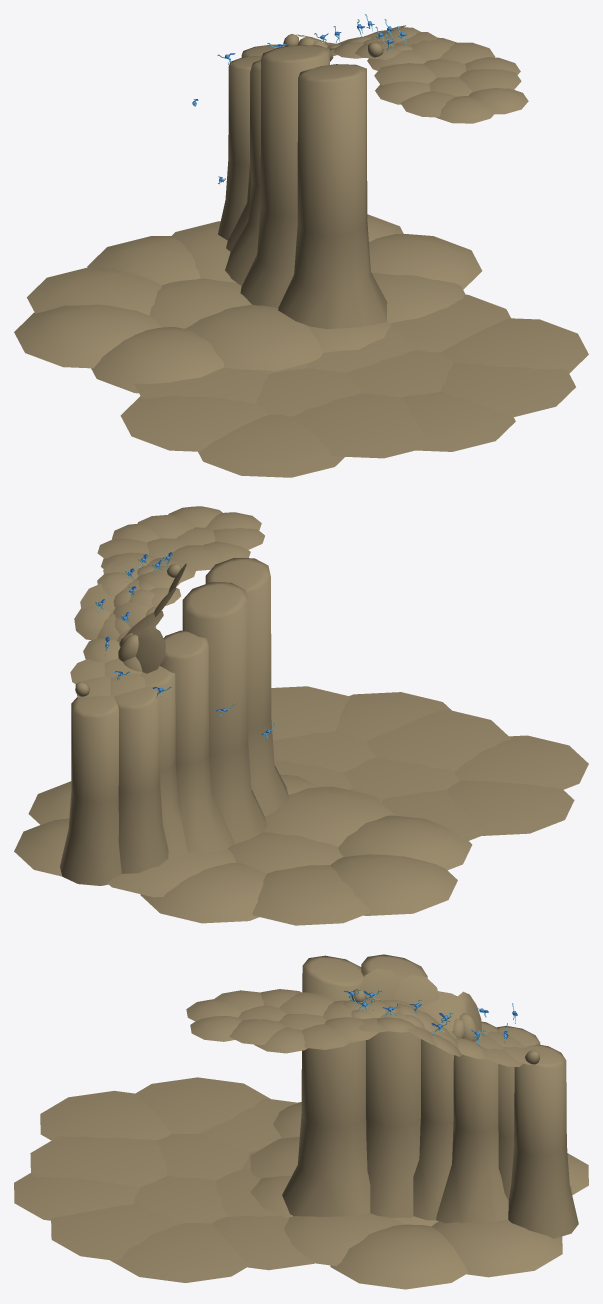
Rendered from BirdRaceBlockout_004.glb.
The picture shows the model from 3 angles, top to bottom: view 1: azimuth 30°, elevation 25°; view 2: azimuth 150°, elevation 25°; view 3: azimuth 270°, elevation 25°; orthographic projection. The views are drawn at different scales.
Visible parts, largest first — view 1: Terrain.001; view 2: Terrain.001; view 3: Terrain.001.
Part boxes in pixels (box(x1,y1,x2,y2)): Terrain.001: box(14, 25, 588, 477); Terrain.001: box(14, 506, 588, 925); Terrain.001: box(14, 954, 588, 1289).
Size of the model in its own units: 124 by 75.32 by 144.
